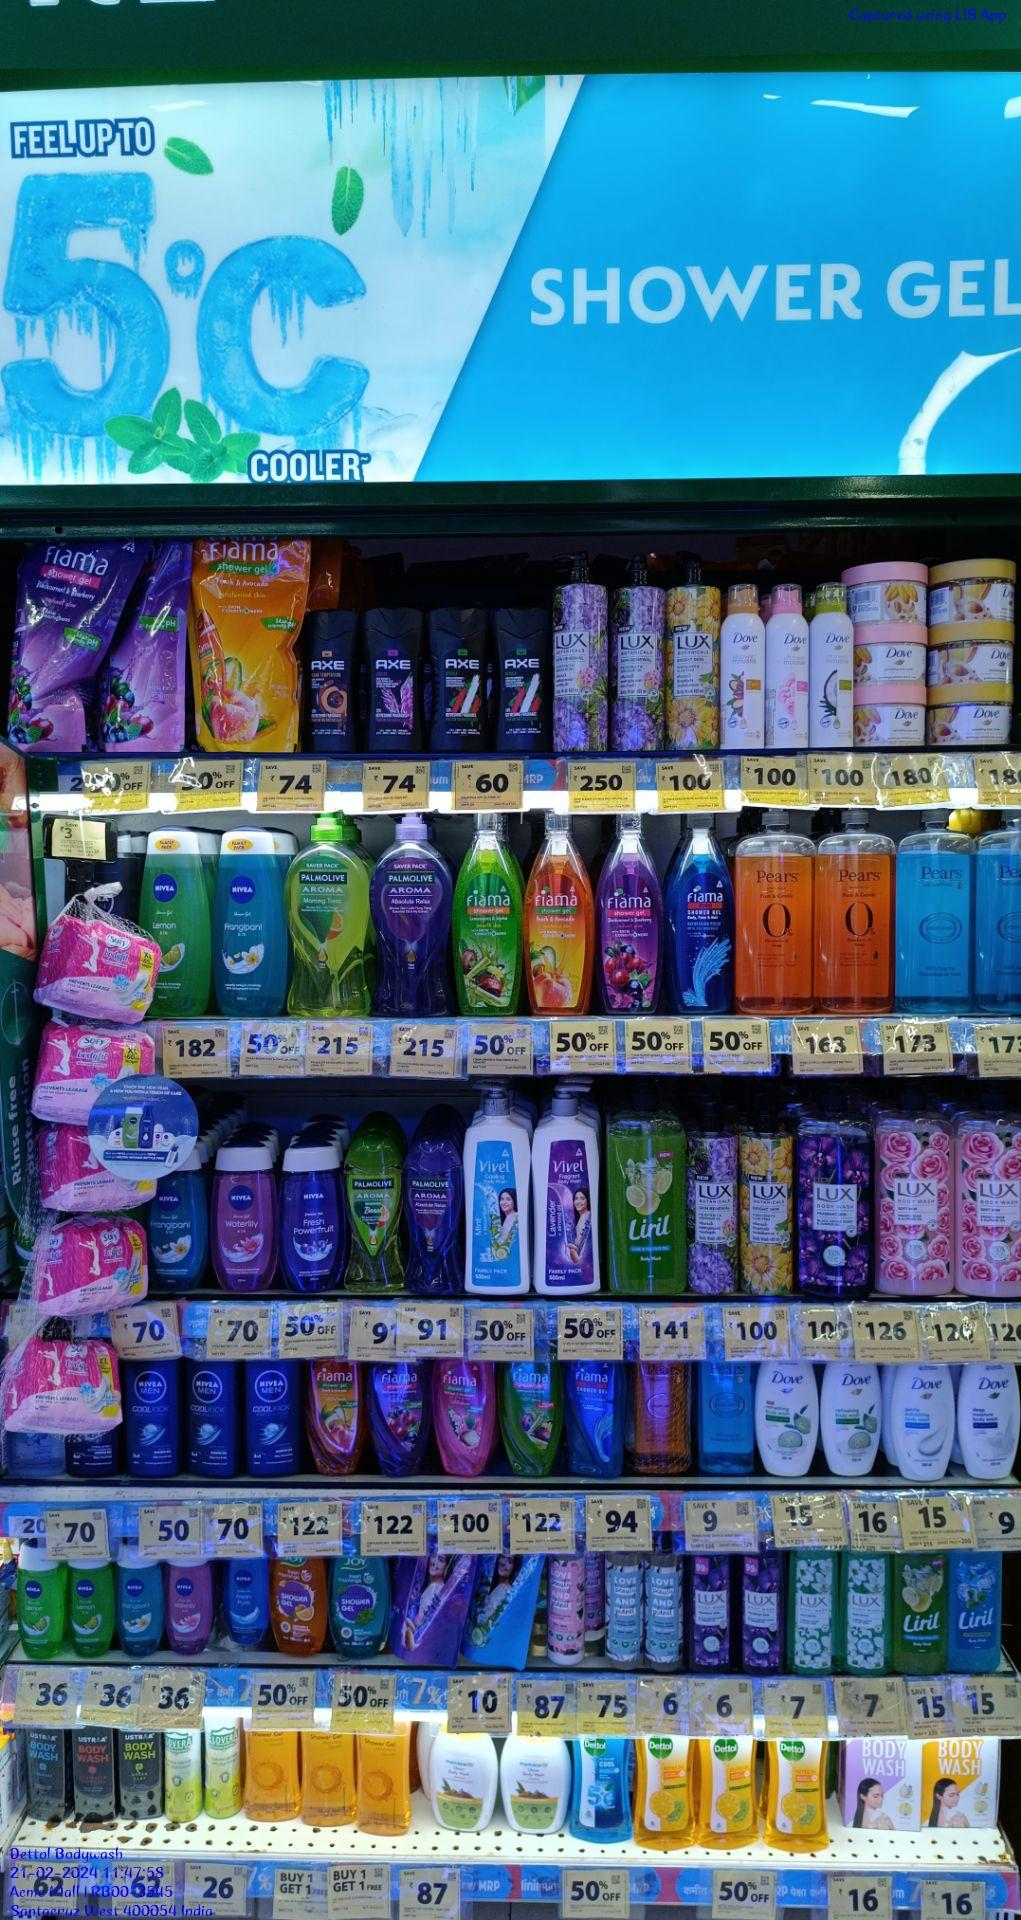Dettol_Bodywash_Cool: (571, 1741, 632, 1844)
Dettol_Bodywash_Refresh: (759, 1741, 829, 1853), (634, 1738, 697, 1851), (697, 1740, 758, 1850)
Dove_Deep_Moisture_Body_Wash_250ML: (958, 1361, 1021, 1482)
Dove_Gentle_Exfoliating_Body_Wash_250ML: (890, 1363, 958, 1482)
Dove_Refreshing_Body_Wash_250ML: (820, 1361, 883, 1481), (757, 1364, 819, 1479)
Liril_Cooling_Mint_Body_Wash_250ML: (949, 1549, 1004, 1671)
Liril_Lime_and_Tea_Tree_Oil_Body_Wash_250ML: (890, 1552, 950, 1675)
Lux_Black_Orchid_Scent_and_Juniper_Oil_Body_Wash_245ML: (737, 1553, 786, 1667), (687, 1554, 733, 1670)
Lux_Body_Wash_Skin_Detox_Freesia_Scent_and_Alove_Vera_245ML: (787, 1552, 841, 1675), (839, 1552, 890, 1671)
Nivea_Shower_Gel_Frangipani_and_Oil_250ML: (210, 824, 287, 1015)
Nivea_Shower_Gel_Fresh_Powerfruit_250ML: (277, 1139, 344, 1289)
Nivea_Shower_Gel_Waterlily_and_Oil_250ML: (207, 1139, 278, 1291)
Palmolive_Aroma_Morning_Tonic_Shower_Gel_250ML: (343, 1135, 404, 1291)
Palmolive_Aroma_Relax_250ML: (403, 1134, 461, 1295)
